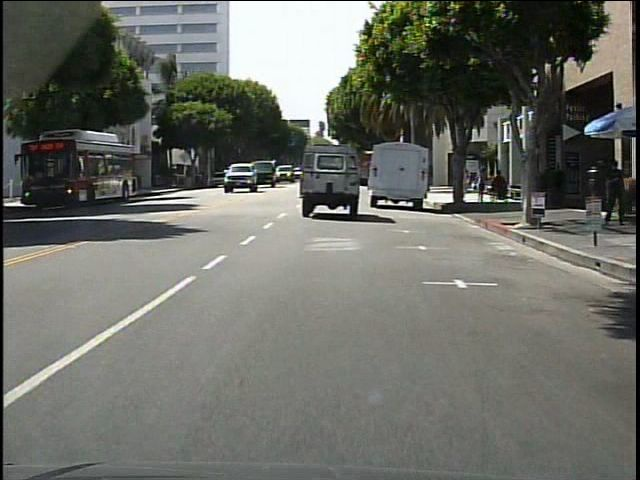person: (601, 162, 623, 228), (476, 167, 490, 204), (460, 161, 472, 204)
